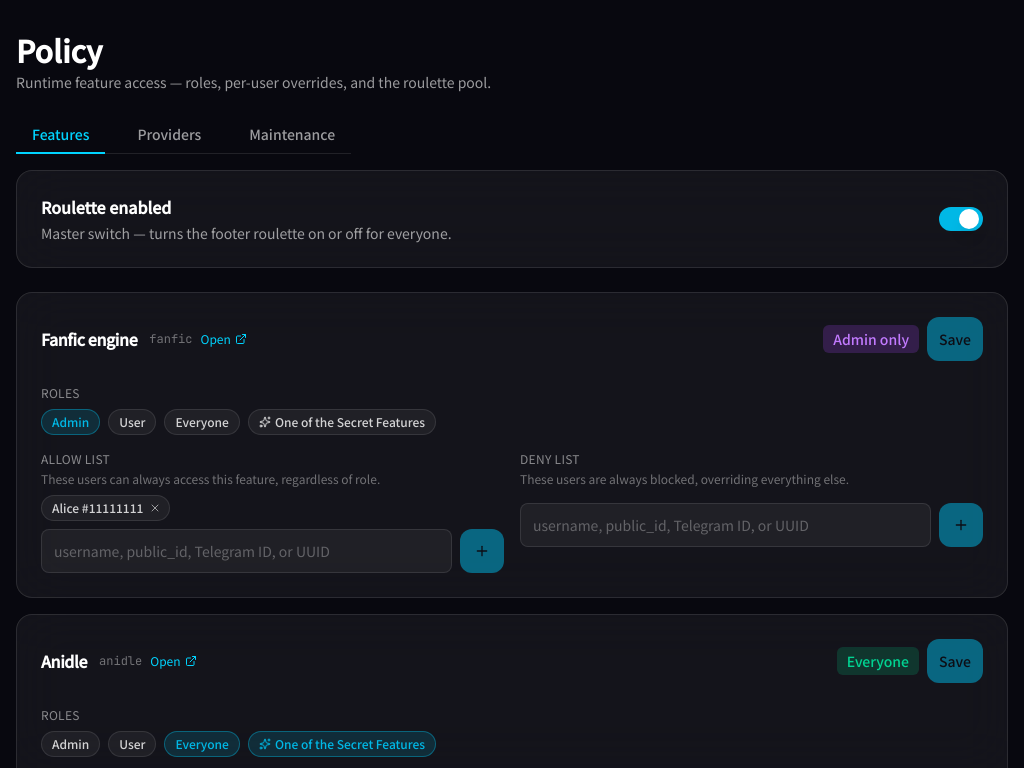
Test: AdminPolicy › Providers tab › a policy="manual" row shows the Auto probe segment active + a "Parked" chain indicator
Click the tab with id "tab-providers".
click(169, 135)  # box [121, 116, 217, 154]
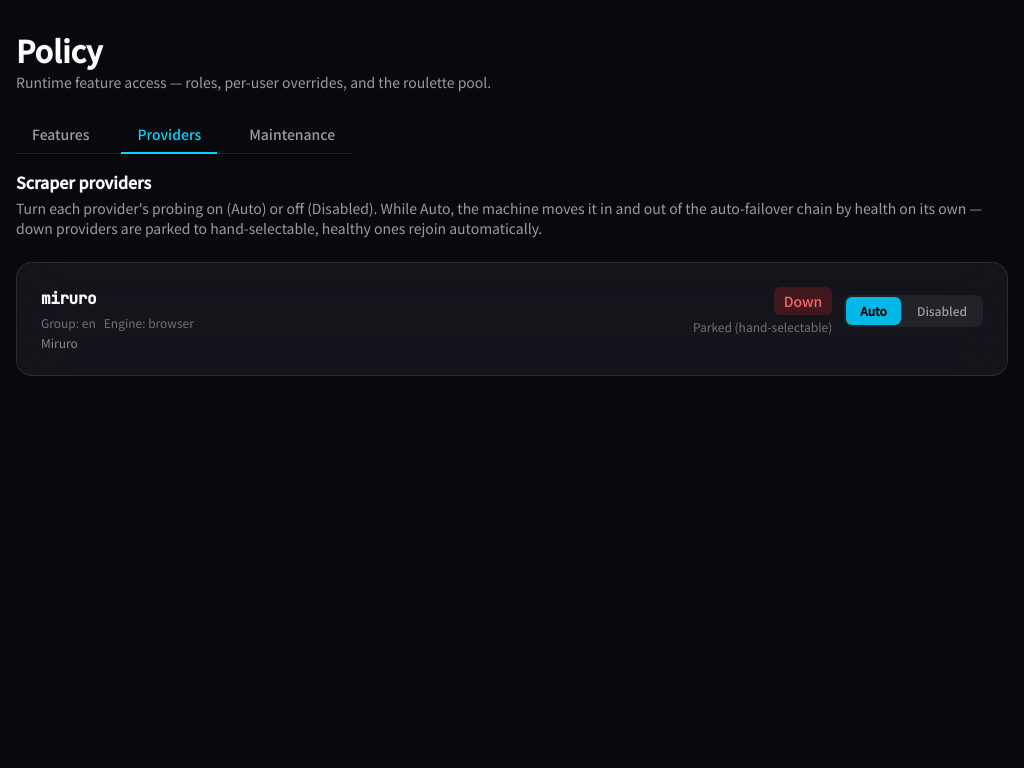
Expected: the text "Parked (hand-selectable)" is shown, [693, 319, 832, 335]
Expected: the text with test id "provider-chain-miruro" shows "Parked", [693, 318, 832, 335]
